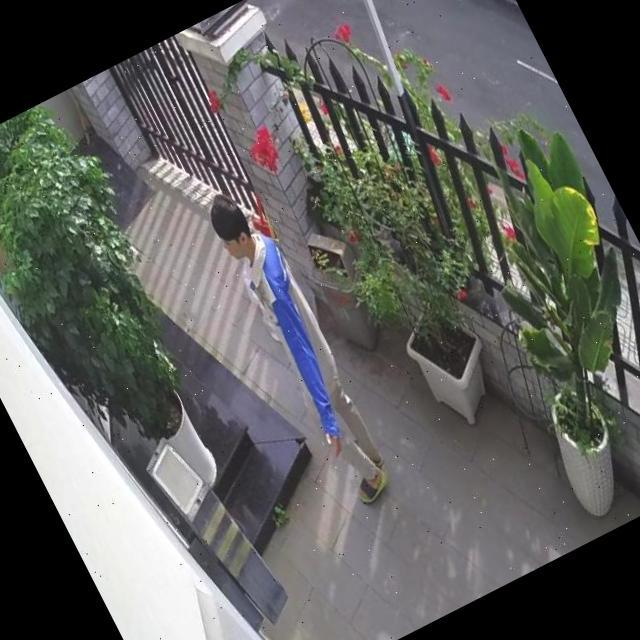person: (201, 180, 404, 510)
